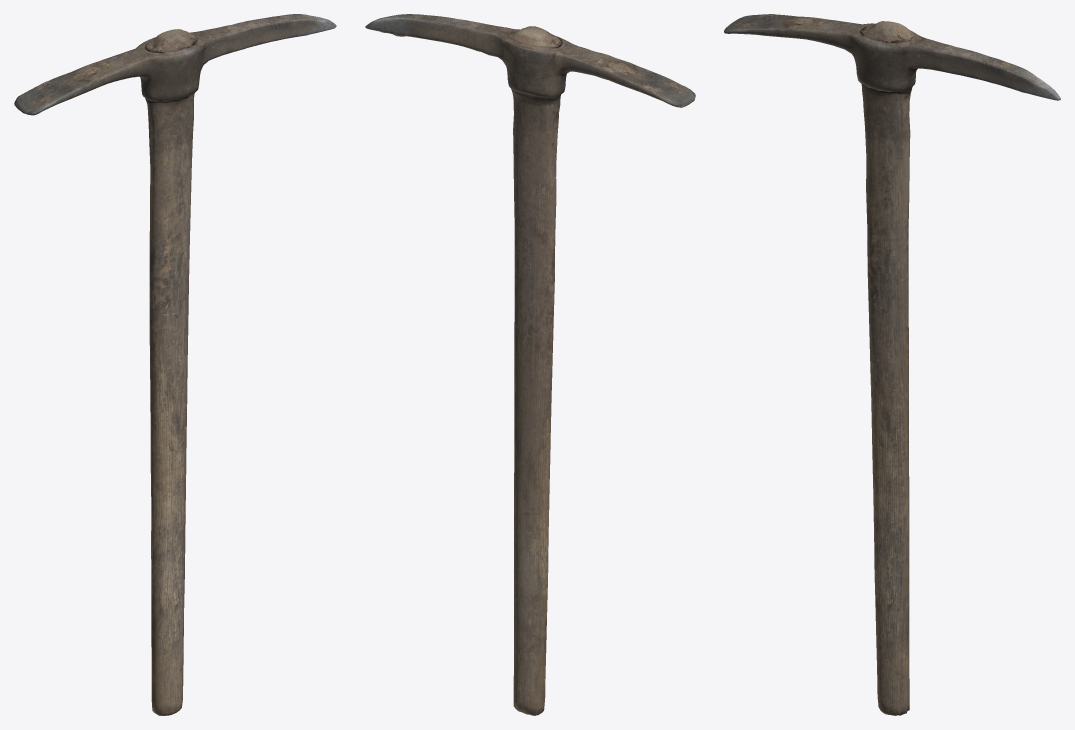
File: picke_dirty_01.gltf
3 renders of one model, left to right at view 1: azimuth 30°, elevation 25°; view 2: azimuth 150°, elevation 25°; view 3: azimuth 330°, elevation 25°, orthographic.
Visible parts, largest first — view 1: picke_dirty_01; view 2: picke_dirty_01; view 3: picke_dirty_01.
Boxes of the visible parts, x1,y1,x2,y2 form: picke_dirty_01: (14,14,336,715); picke_dirty_01: (365,14,695,715); picke_dirty_01: (724,14,1060,715).
Bounding box in the file's own units: 0.5498 × 1.12 × 0.0691.
Materials: 1 (1 with a texture image).
